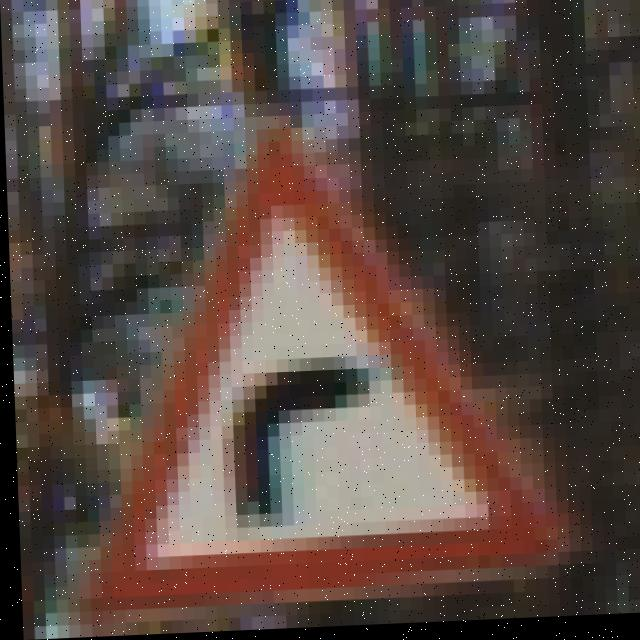right_turn: (73, 142, 616, 635)
